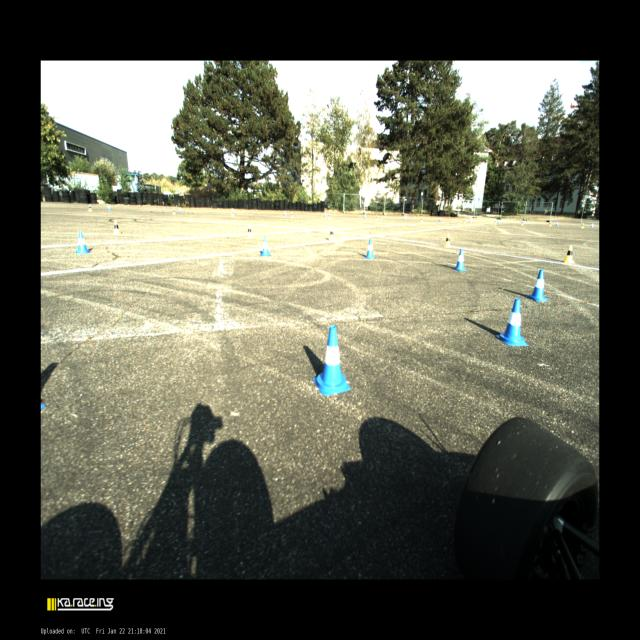blue_cone: (313, 326, 351, 396), (496, 298, 529, 346), (526, 270, 549, 302), (74, 231, 89, 254), (455, 249, 466, 271), (260, 236, 272, 256), (364, 239, 375, 258), (107, 204, 111, 210), (179, 207, 182, 213), (284, 210, 287, 216), (469, 218, 472, 223), (364, 214, 367, 219), (324, 212, 327, 217), (556, 221, 558, 226), (591, 223, 593, 228), (404, 215, 406, 220), (439, 217, 441, 221), (498, 219, 500, 223)
yellow_cone: (563, 245, 574, 263), (113, 220, 122, 235), (246, 225, 253, 239), (328, 228, 335, 242), (444, 234, 451, 247), (88, 204, 92, 212), (231, 209, 235, 217), (172, 208, 176, 214), (291, 212, 294, 218), (328, 214, 331, 220), (581, 223, 584, 228), (521, 220, 523, 226), (463, 219, 466, 223), (494, 220, 496, 225), (549, 222, 551, 226), (420, 218, 422, 222), (376, 216, 378, 220)
